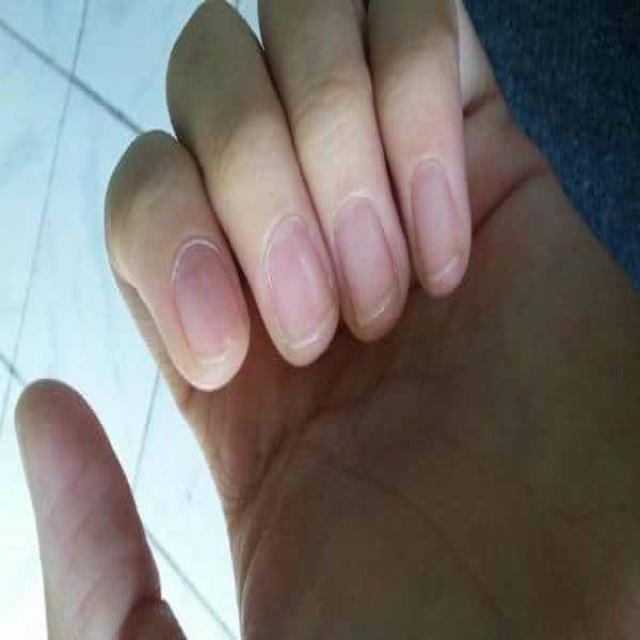sehat: (170, 238, 245, 368), (264, 224, 335, 341), (337, 195, 398, 324), (411, 162, 462, 282)
